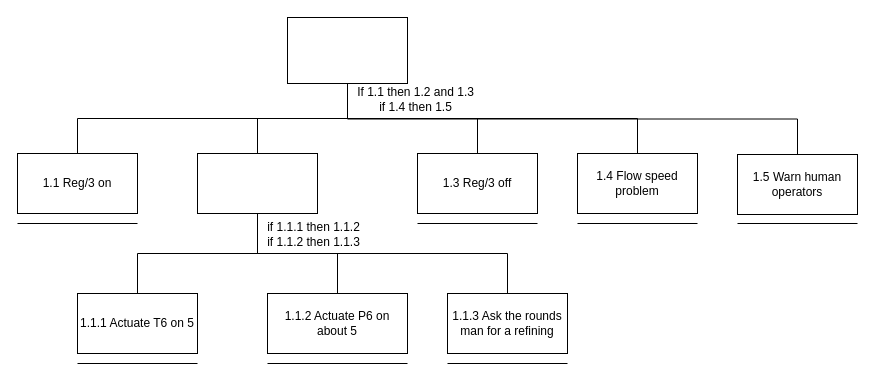
The diagram is 876 pixels wide and 382 high, and some of its shapes have lost their labels. The shapes that lost their labels are listed below. From the top down, each one's box as (x1, y1, x2, y2) in pixels, then its label:
(286, 16, 408, 84): 1 Regulate the flow of M3-85 to 200 +- 5
(196, 152, 318, 214): 1.2 Adjust pump 3 to 0.5
